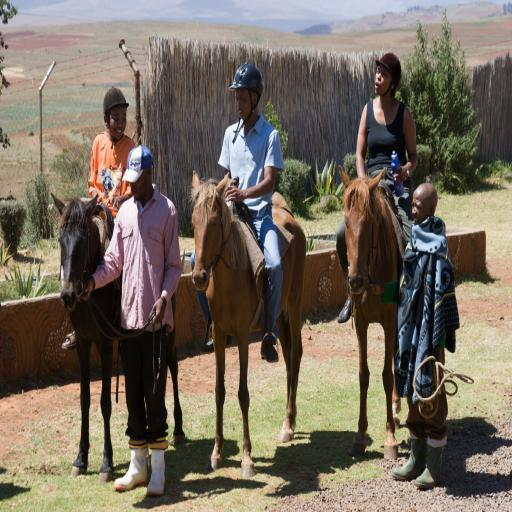horse: (47, 190, 189, 486), (188, 170, 304, 476), (336, 162, 402, 462)
